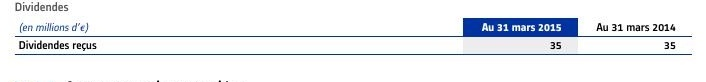table: (0, 0, 706, 82)
